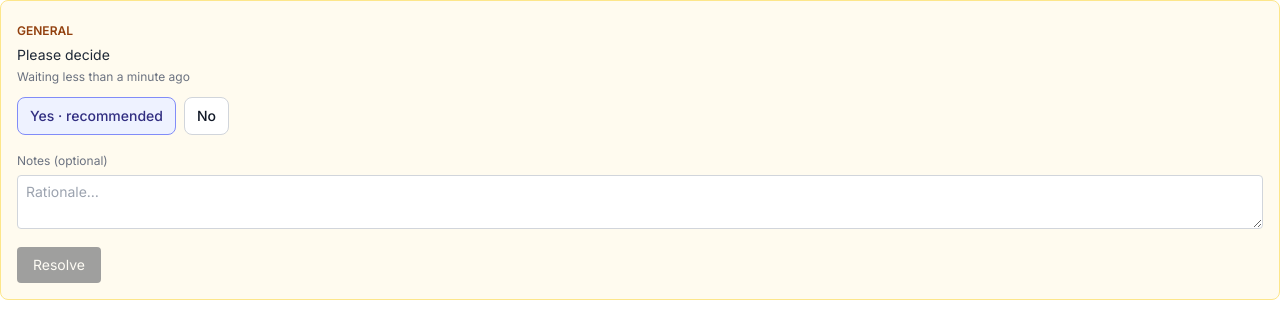
HumanGatesPanel › disables resolve until an option is selected
Check: the button "Resolve" is disabled, box [17,247,101,283]
What coordinates should you click on to do the following:
click the button "Yes · recommended"
I would click on:
 (96, 116)
Its box is [17,97,176,135].
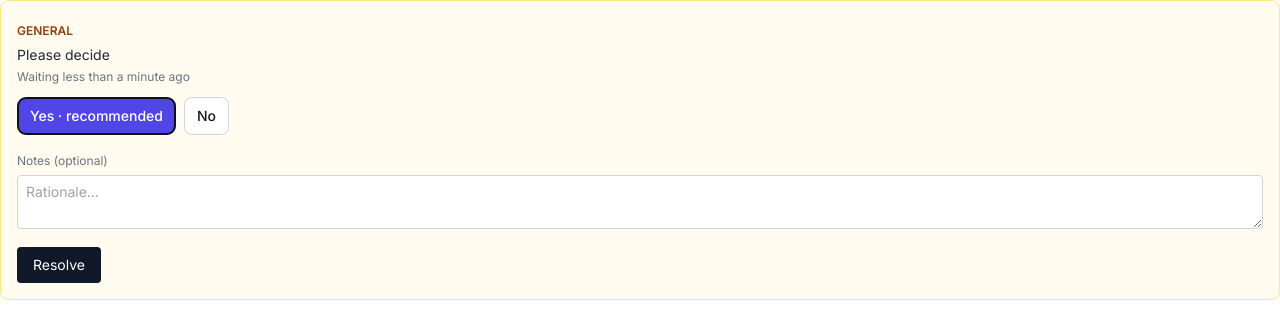
Check: the button "Resolve" is enabled, box [17,247,101,283]
